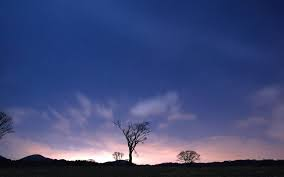sky: (2, 3, 284, 161)
tree: (113, 120, 152, 166)
